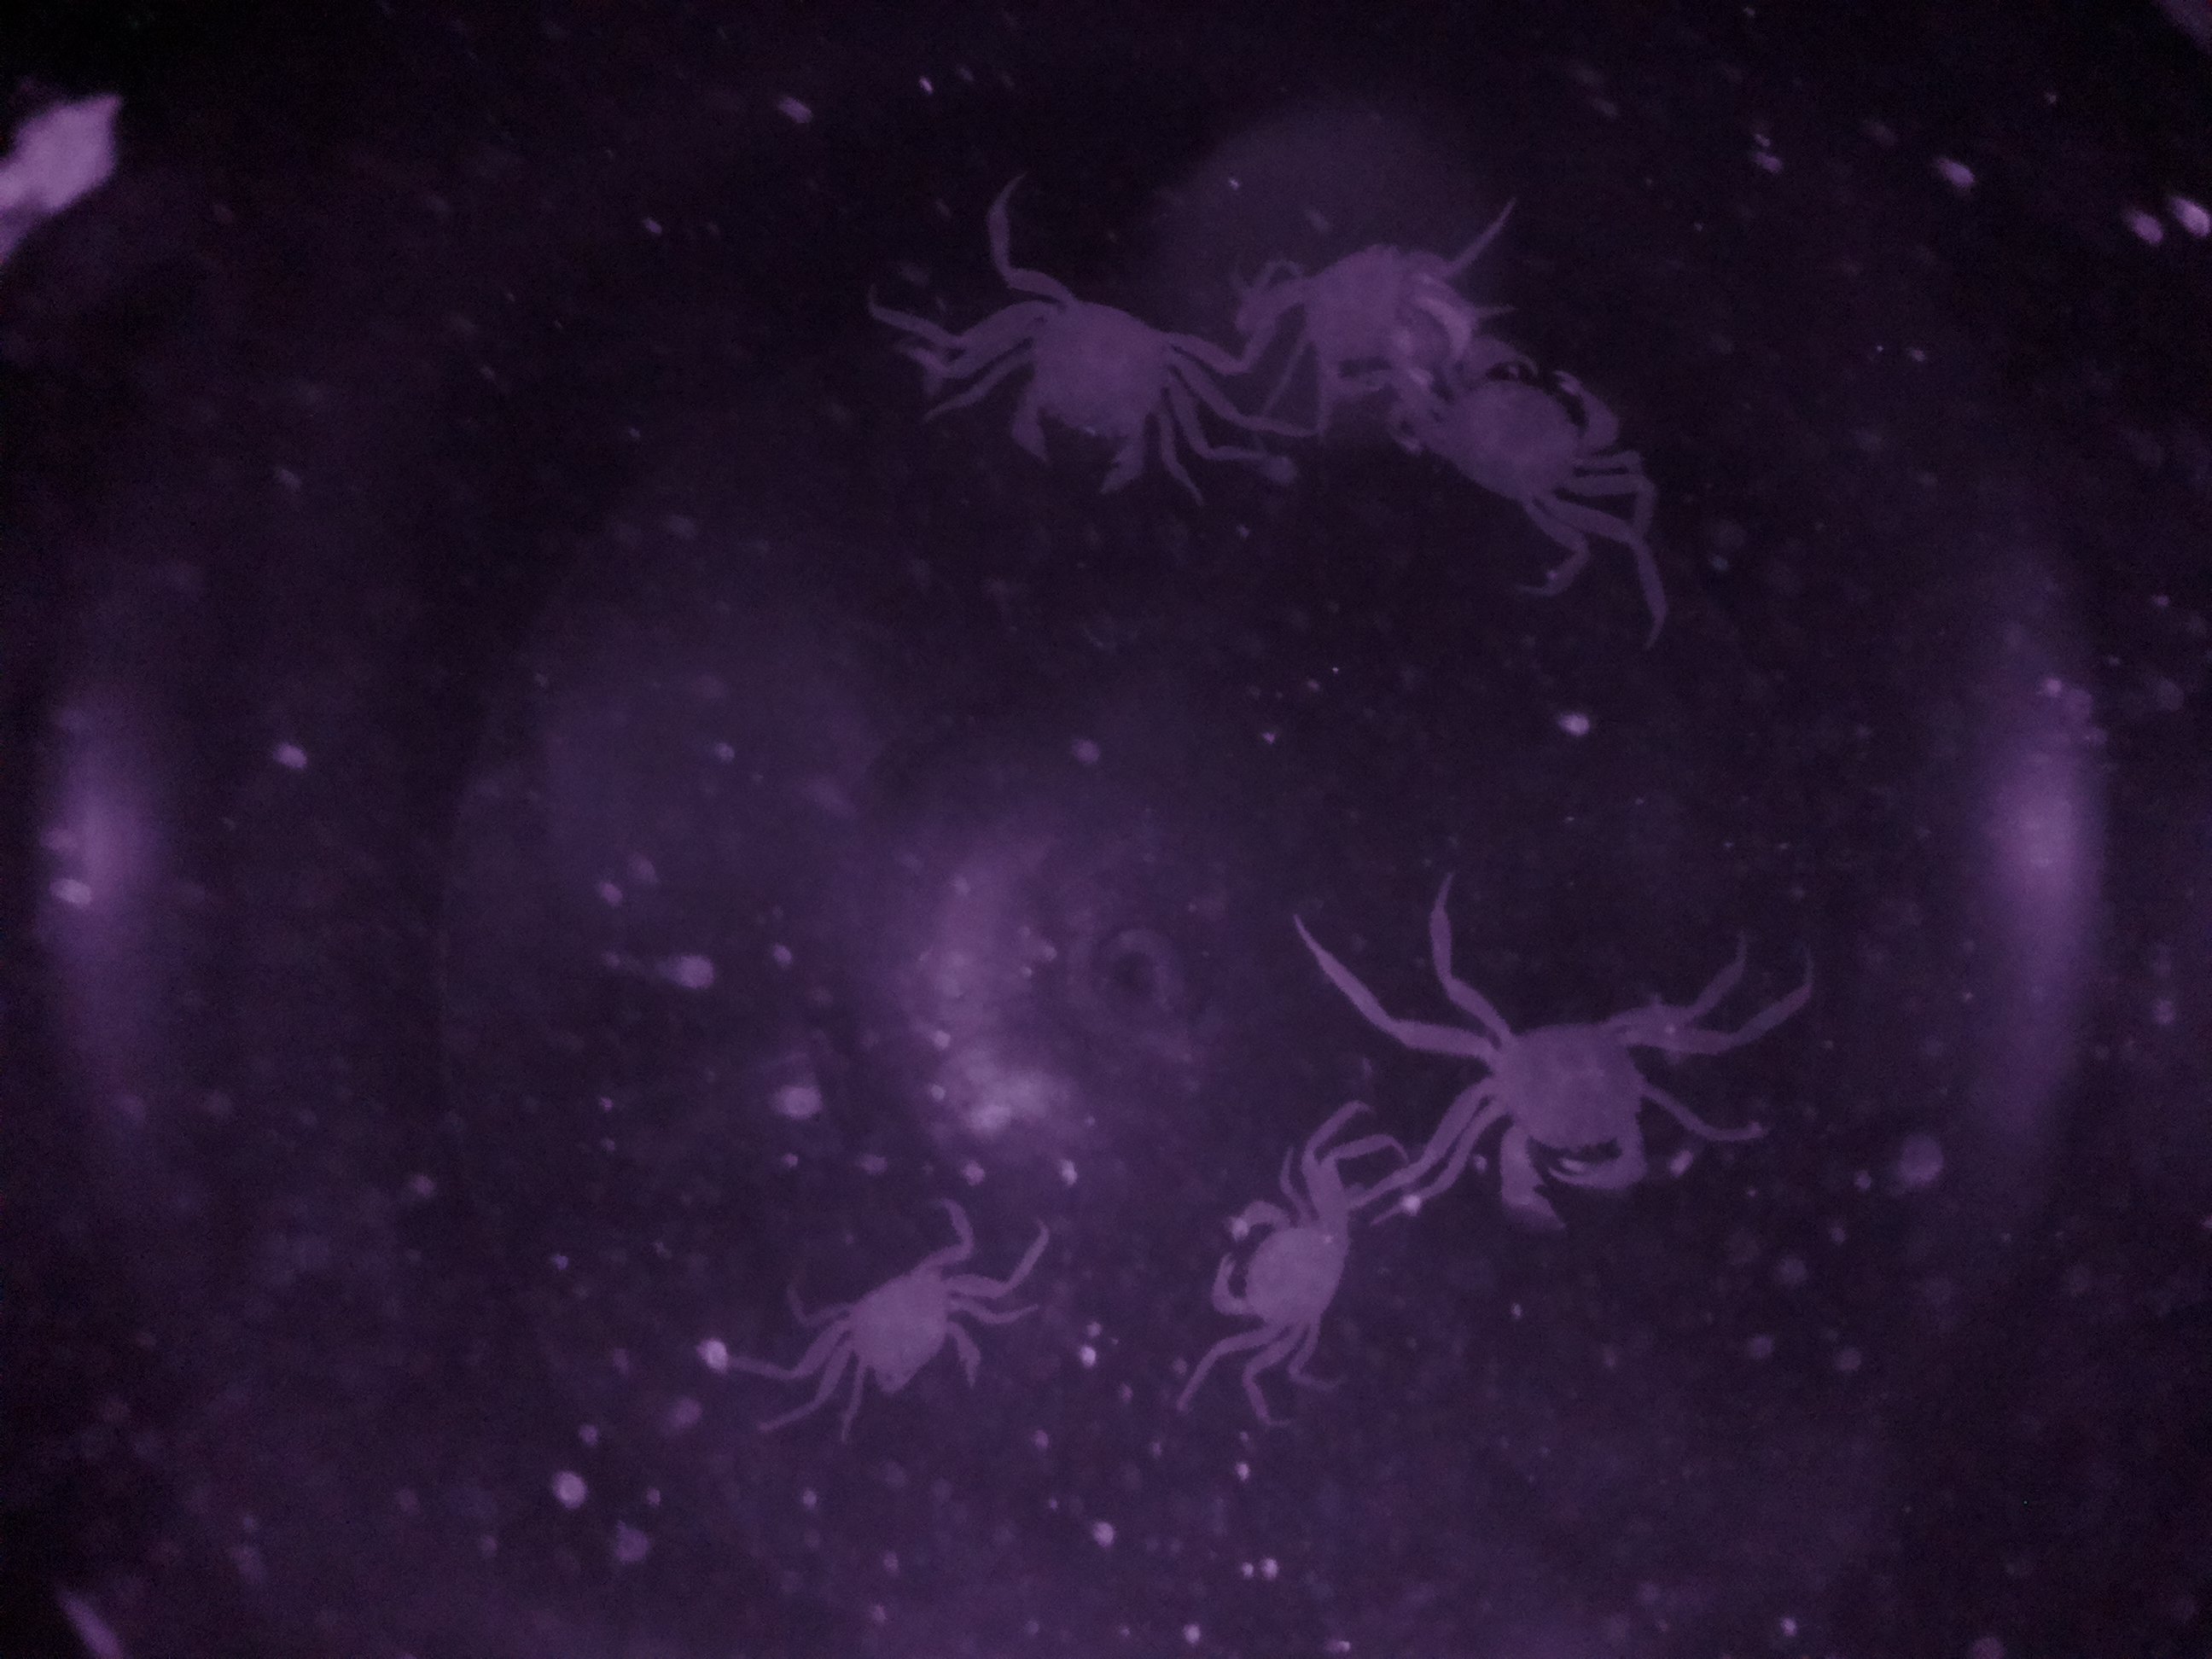Crab: (1393, 985, 1750, 1239), (956, 258, 1245, 532), (798, 1243, 1010, 1438), (1193, 1182, 1385, 1370)
